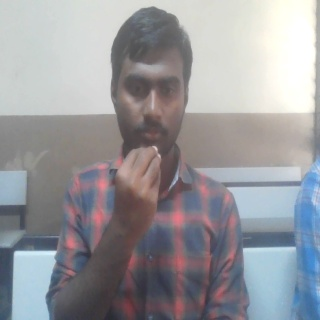Food: (110, 145, 163, 241)
